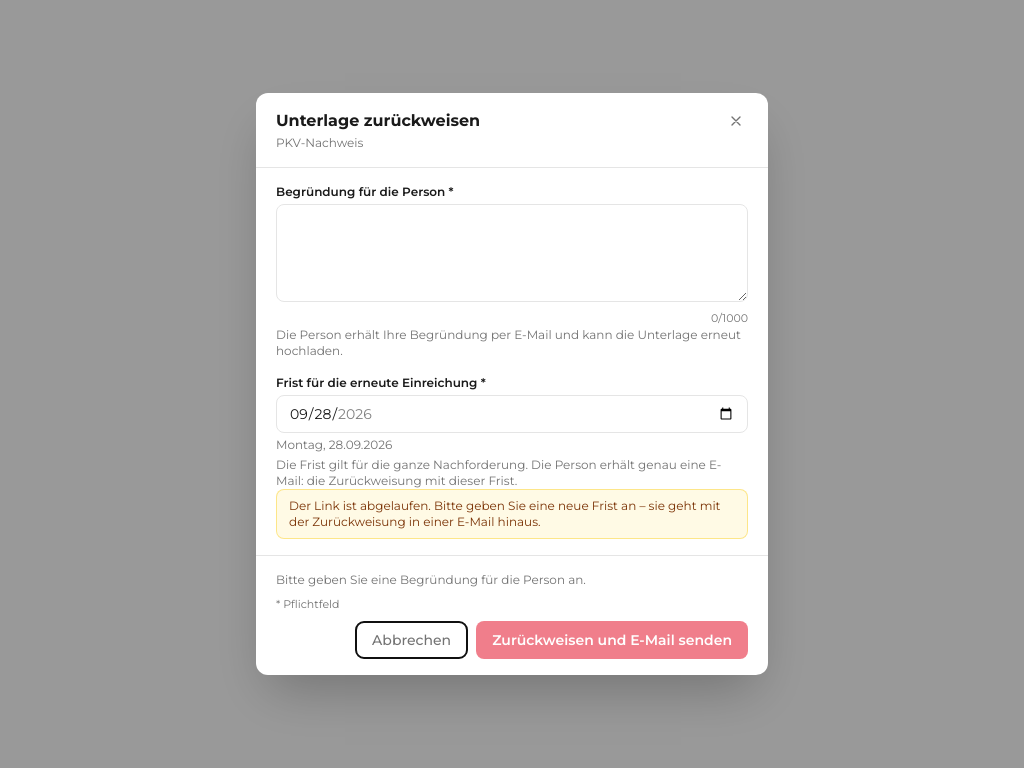
Zurückweisen (EP-1, E-2) › toter Link: neue Frist ist Pflicht
Expected: the date field labelled "Frist für die erneute Einreichung *" is shown, [276,395,748,433]
Type "Unleserlich." into the text box labelled "Begründung für die Person *".
click(512, 253); type("Unleserlich.")  # box [276,204,748,302]
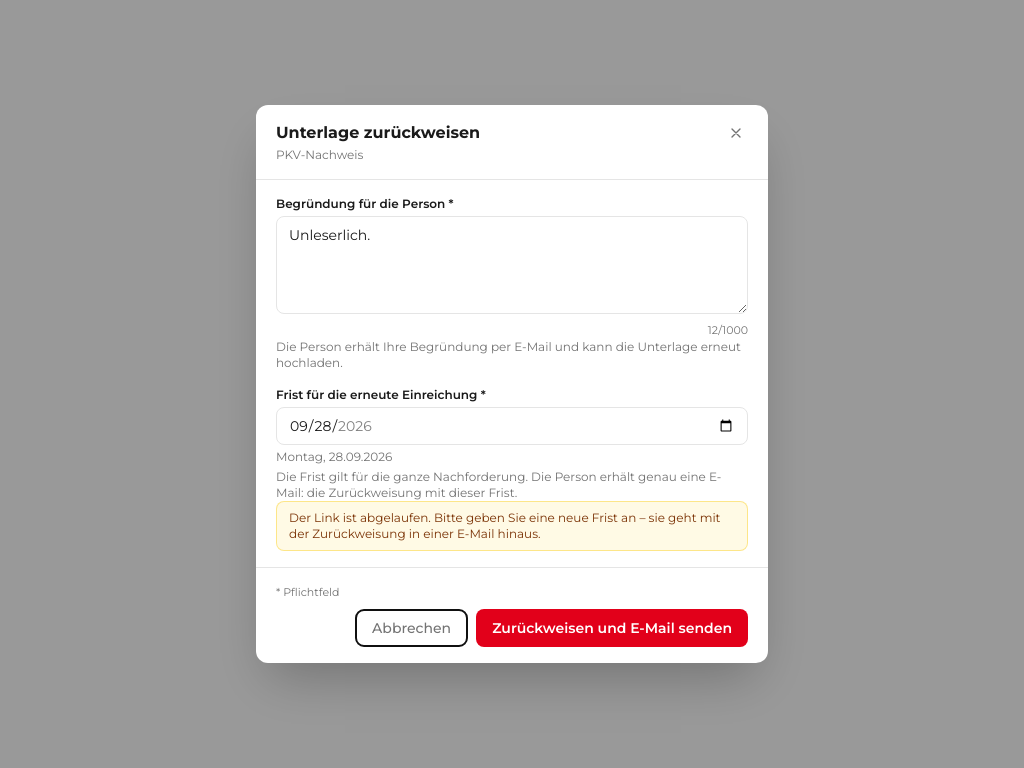
Clear the date field labelled "Frist für die erneute Einreichung *" at (512,426), box [276,407,748,445]
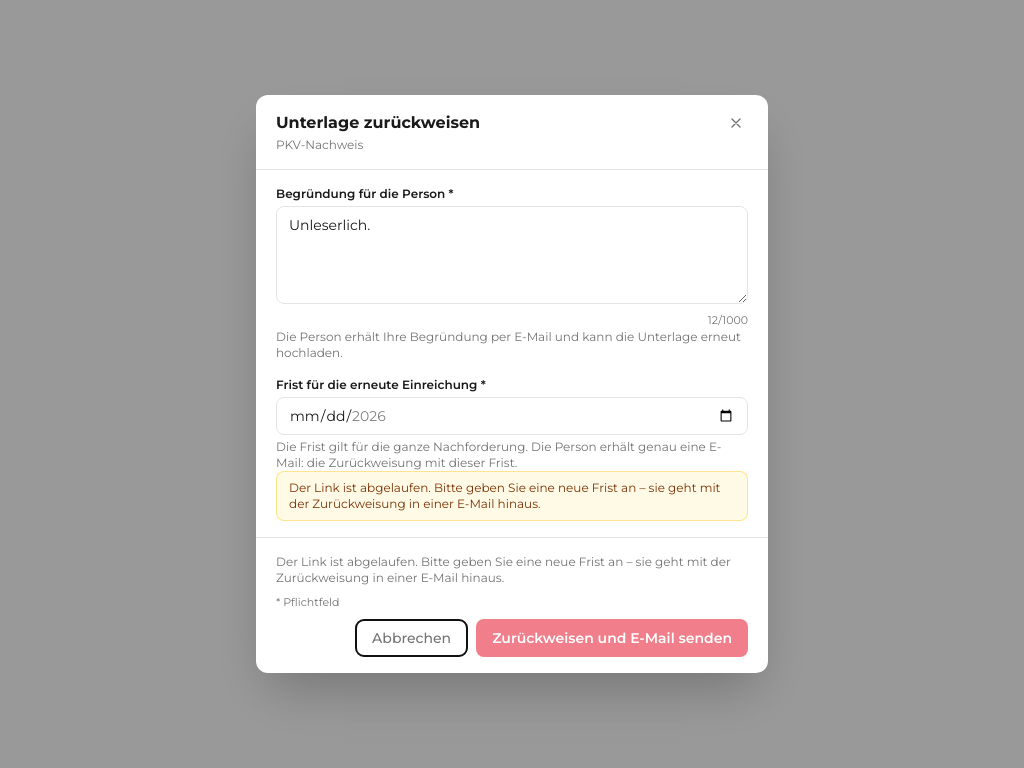
Result: the button "Zurückweisen und E-Mail senden" is disabled at [476,619,748,657]
Result: the text "Der Link ist abgelaufen. Bitte geben Sie eine neue Frist an – sie geht mit der Zurückweisung in einer E-Mail hinaus." is shown at [276,554,731,585]
